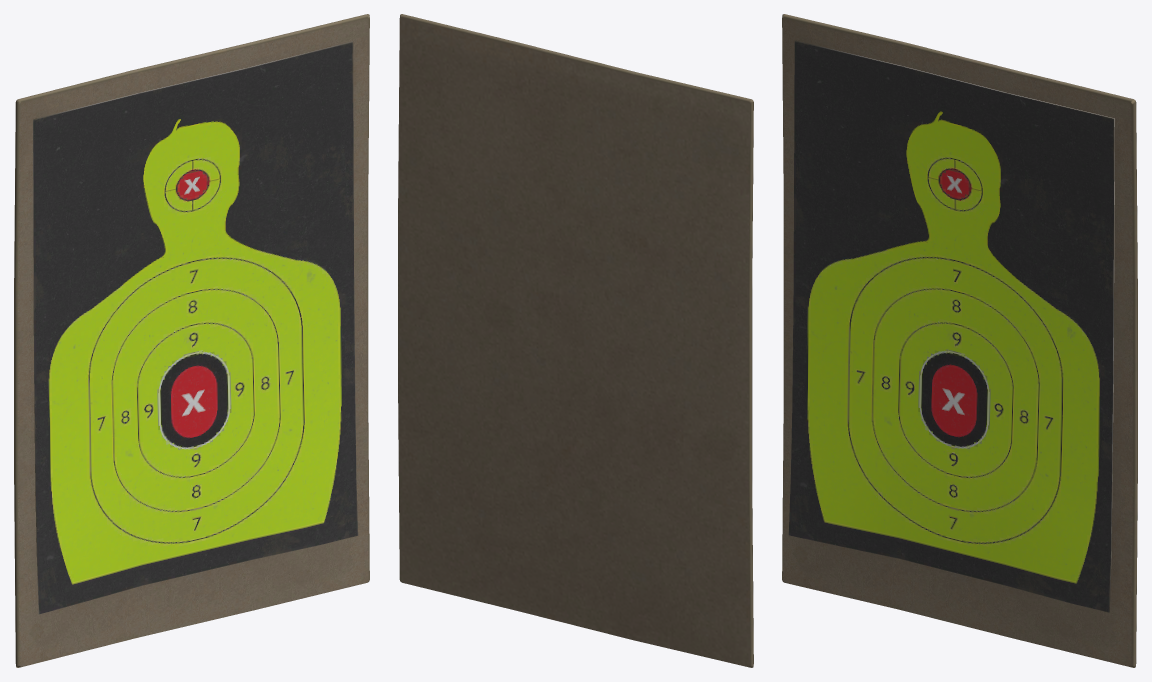
Rendered from SM_Paper_Targets_01a.glb.
3 views of the same model, side by side, from view 1: azimuth 30°, elevation 25°; view 2: azimuth 150°, elevation 25°; view 3: azimuth 330°, elevation 25° (orthographic).
Parts seen in each view (by area): view 1: SM_Paper_Targets_01a; view 2: SM_Paper_Targets_01a; view 3: SM_Paper_Targets_01a.
Part boxes in pixels (x1,y1,x2,y2): SM_Paper_Targets_01a: (14, 14, 369, 667); SM_Paper_Targets_01a: (398, 14, 753, 667); SM_Paper_Targets_01a: (782, 14, 1137, 667).
Bounding box in the file's own units: 0.7305 × 1.12 × 0.0469.
1 material, 1 textured.
